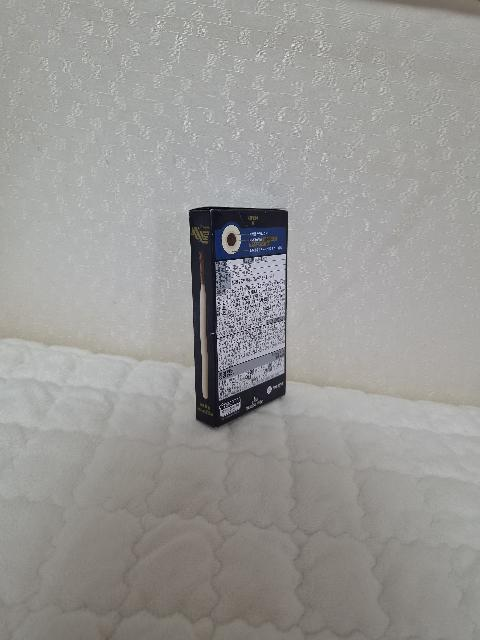pepero: (189, 206, 288, 429)
